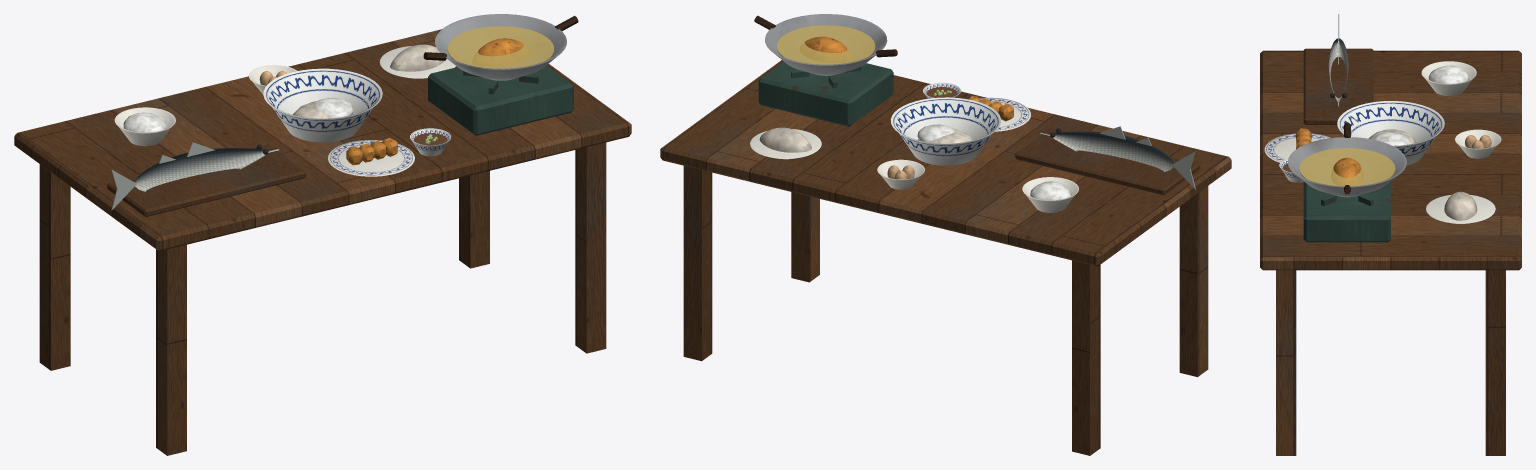
The model's file is pempek.glb.
3 renders of one model, left to right at view 1: azimuth 30°, elevation 25°; view 2: azimuth 150°, elevation 25°; view 3: azimuth 270°, elevation 25°, orthographic. The views are drawn at different scales.
Parts seen in each view (by area): view 1: meja_dapur, kompor, baskom, talenan, ikan, wajan, minyak, piring_saji, mangkuk_sagu, kapal_selam_mentah, potongan_pempek, piring_mentah (+2 smaller); view 2: meja_dapur, kompor, baskom, talenan, ikan, wajan, minyak, kapal_selam_mentah, mangkuk_sagu, piring_mentah, mangkuk_telur, piring_saji (+2 smaller); view 3: meja_dapur, talenan, kompor, baskom, wajan, minyak, piring_mentah, mangkuk_sagu, piring_saji, kapal_selam_mentah, mangkuk_telur, ikan (+3 smaller).
Boxes of the visible parts, bbox=[...] form: meja_dapur: bbox=[14, 29, 631, 455]; kompor: bbox=[428, 65, 573, 135]; baskom: bbox=[263, 68, 382, 142]; talenan: bbox=[107, 144, 305, 216]; ikan: bbox=[111, 142, 278, 210]; wajan: bbox=[435, 14, 566, 80]; minyak: bbox=[447, 26, 554, 68]; piring_saji: bbox=[328, 140, 414, 176]; mangkuk_sagu: bbox=[114, 107, 175, 146]; kapal_selam_mentah: bbox=[390, 44, 444, 71]; potongan_pempek: bbox=[346, 138, 397, 165]; piring_mentah: bbox=[379, 46, 455, 78]; meja_dapur: bbox=[660, 60, 1231, 455]; kompor: bbox=[758, 62, 893, 126]; baskom: bbox=[890, 97, 1001, 165]; talenan: bbox=[1015, 128, 1199, 195]; ikan: bbox=[1040, 126, 1195, 189]; wajan: bbox=[765, 14, 887, 75]; minyak: bbox=[776, 25, 875, 64]; kapal_selam_mentah: bbox=[759, 127, 811, 152]; mangkuk_sagu: bbox=[1022, 177, 1078, 212]; piring_mentah: bbox=[750, 129, 821, 159]; mangkuk_telur: bbox=[877, 159, 924, 189]; piring_saji: bbox=[980, 97, 1030, 131]; meja_dapur: bbox=[1260, 50, 1521, 455]; talenan: bbox=[1303, 48, 1373, 124]; kompor: bbox=[1303, 181, 1390, 242]; baskom: bbox=[1337, 101, 1444, 165]; wajan: bbox=[1287, 137, 1406, 197]; minyak: bbox=[1299, 148, 1395, 186]; piring_mentah: bbox=[1426, 194, 1495, 223]; mangkuk_sagu: bbox=[1421, 61, 1476, 96]; piring_saji: bbox=[1264, 133, 1330, 162]; kapal_selam_mentah: bbox=[1444, 191, 1477, 220]; mangkuk_telur: bbox=[1455, 129, 1501, 158]; ikan: bbox=[1328, 14, 1348, 107].
Size of the model in its own units: 1.71 by 1.03 by 0.9.
Materials: 20 (15 with a texture image).
